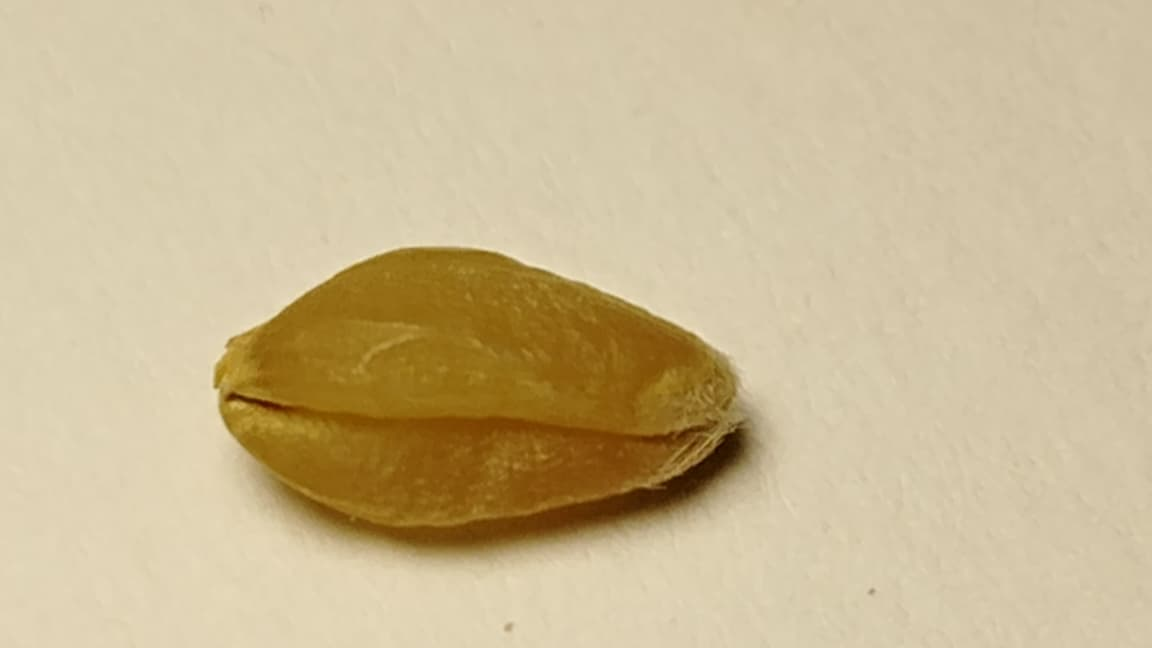healthy: (216, 247, 734, 520)
